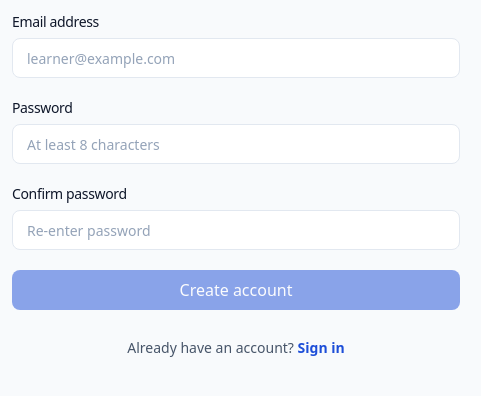
Test: SignupForm Component › shows client-side validation error when passwords do not match
Type "newuser@example.com" into the field labelled "Email address" at (236, 58), box [12, 38, 460, 78]
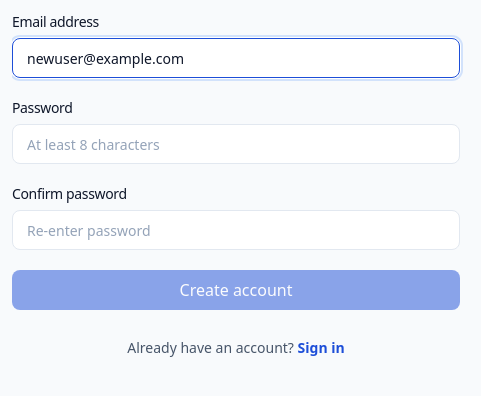
Type "Password123!" into the password field labelled "Password" at (236, 144), box [12, 124, 460, 164]
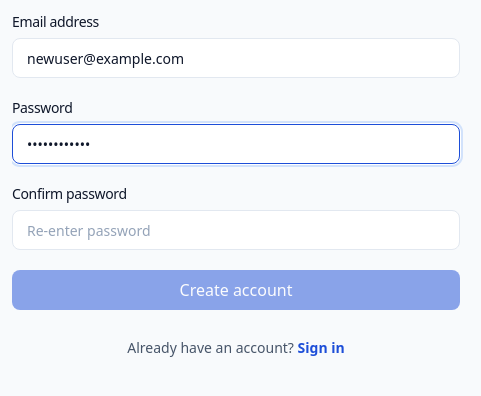
Type "PasswordMismatch!" into the password field labelled "Confirm password" at (236, 230), box [12, 210, 460, 250]
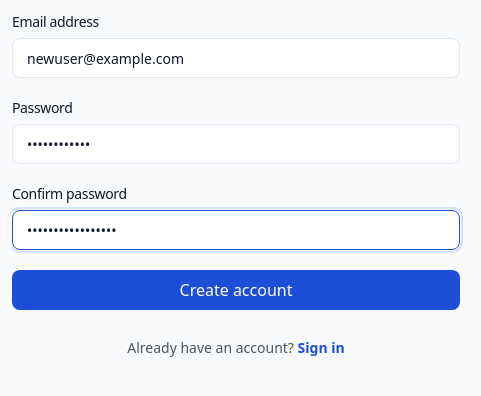
Click the button "Create account" at (236, 290), box [12, 270, 460, 310]
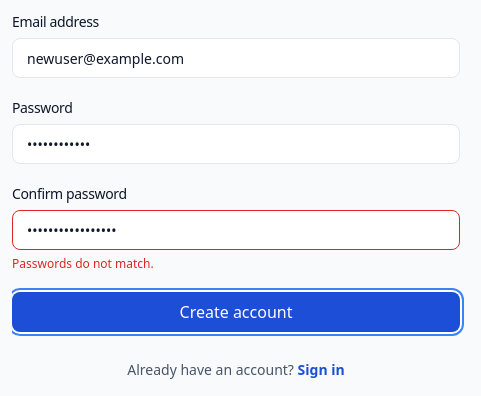
Check: the text "Passwords do not match." is shown, box [12, 255, 154, 272]
